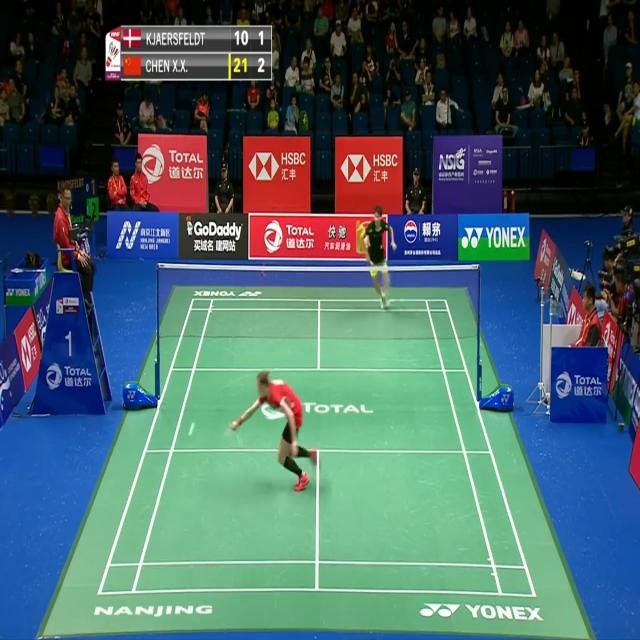Player1: (233, 359, 325, 494)
Player2: (358, 199, 402, 315)
